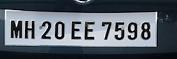0: (55, 20, 65, 40)
2: (40, 21, 52, 39)
5: (114, 21, 126, 42)
7: (101, 21, 113, 41)
8: (140, 21, 152, 41)
9: (127, 21, 138, 40)
E: (71, 20, 82, 40), (84, 21, 95, 40)
H: (24, 20, 37, 39)
M: (10, 20, 23, 39)
